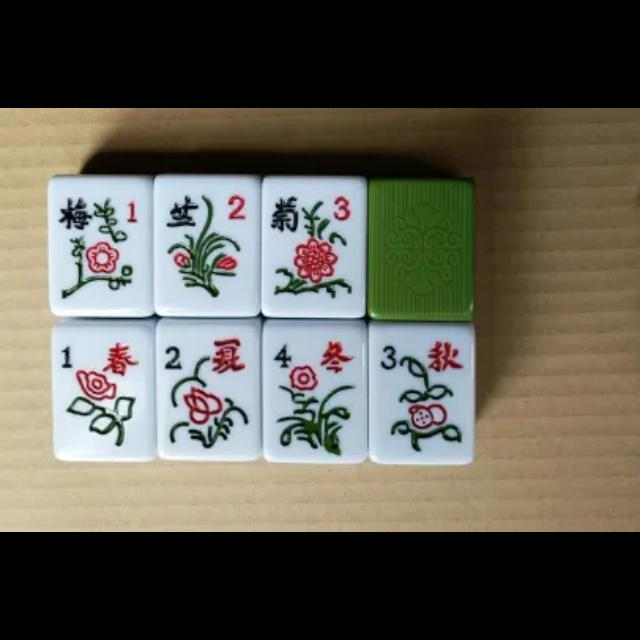f1: (51, 180, 149, 236)
f2: (154, 177, 256, 233)
f3: (264, 183, 360, 237)
s1: (52, 326, 148, 380)
s2: (157, 326, 257, 374)
s3: (370, 329, 470, 376)
s4: (263, 328, 363, 377)
